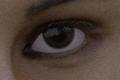eye: (45, 26, 72, 47)
